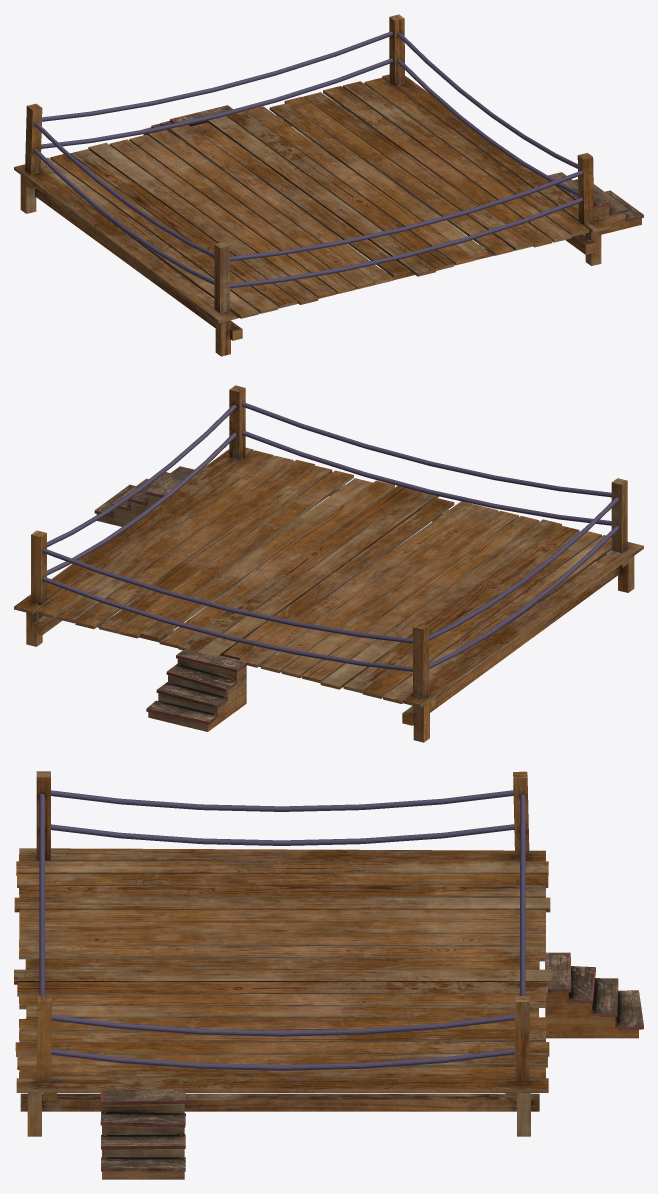
Rendered from woodboxing_ring.obj.
3 renders of one model, top to bottom at view 1: azimuth 30°, elevation 25°; view 2: azimuth 150°, elevation 25°; view 3: azimuth 270°, elevation 25°, orthographic. The views are drawn at different scales.
Parts seen in each view (by area): view 1: Cube.007; view 2: Cube.007; view 3: Cube.007.
Boxes of the visible parts, left/top/right/bottom form: Cube.007: left=14, top=14, right=643, bottom=356; Cube.007: left=14, top=385, right=643, bottom=742; Cube.007: left=14, top=771, right=643, bottom=1179.
Bounding box in the file's own units: 18.89 × 4.14 × 17.81.
1 material, 1 textured.
